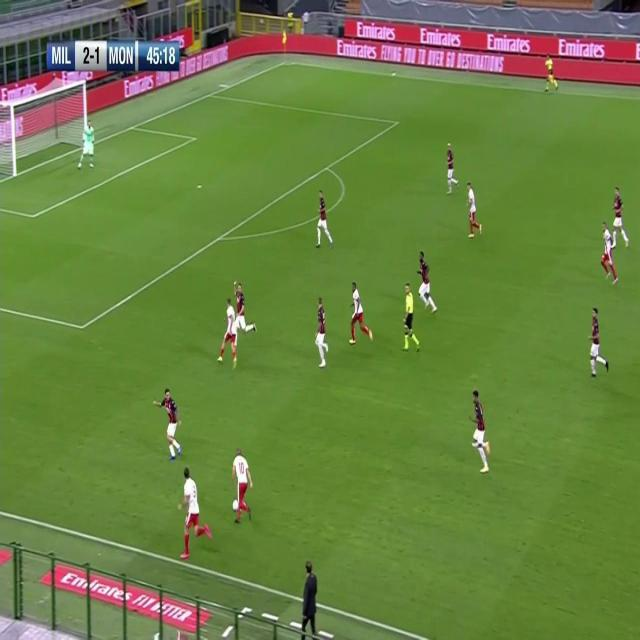ball: (232, 498, 238, 513)
player: (178, 465, 211, 559), (153, 386, 185, 460), (470, 389, 493, 475), (231, 446, 255, 526), (348, 281, 374, 347), (587, 306, 610, 380), (400, 282, 422, 354), (300, 557, 319, 640), (217, 297, 239, 367), (232, 281, 258, 339), (416, 250, 438, 316), (599, 222, 619, 286), (611, 184, 631, 246), (314, 188, 334, 250), (314, 296, 330, 372), (465, 181, 483, 239), (77, 120, 96, 170), (444, 140, 460, 196), (543, 52, 559, 94)
